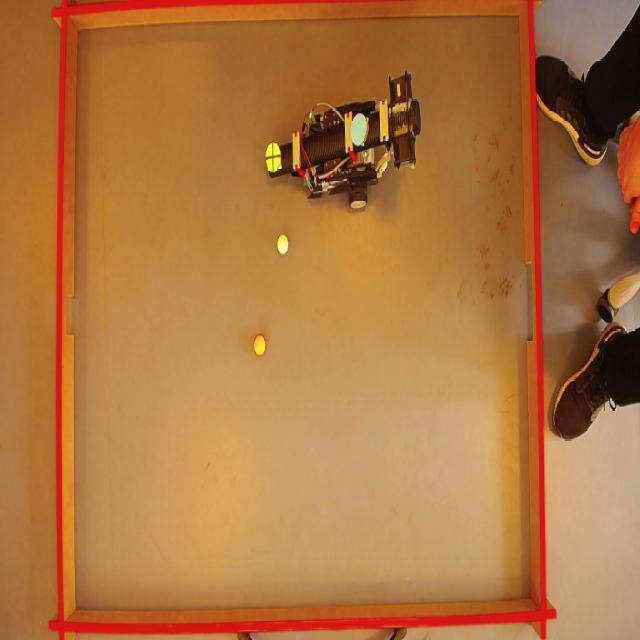orange: (254, 334, 268, 357)
robot: (268, 89, 424, 210)
robot-front: (264, 141, 282, 174)
robot-rear: (347, 111, 368, 148)
white: (274, 233, 289, 254)
